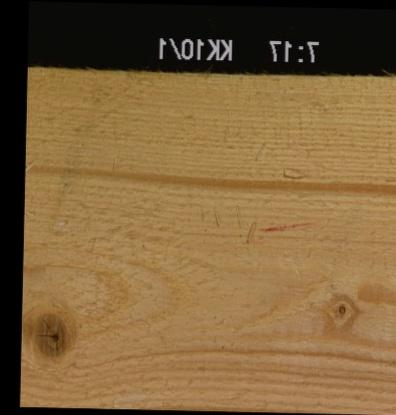dry_knot: (333, 302, 347, 314)
sound_knot: (30, 309, 70, 358)
